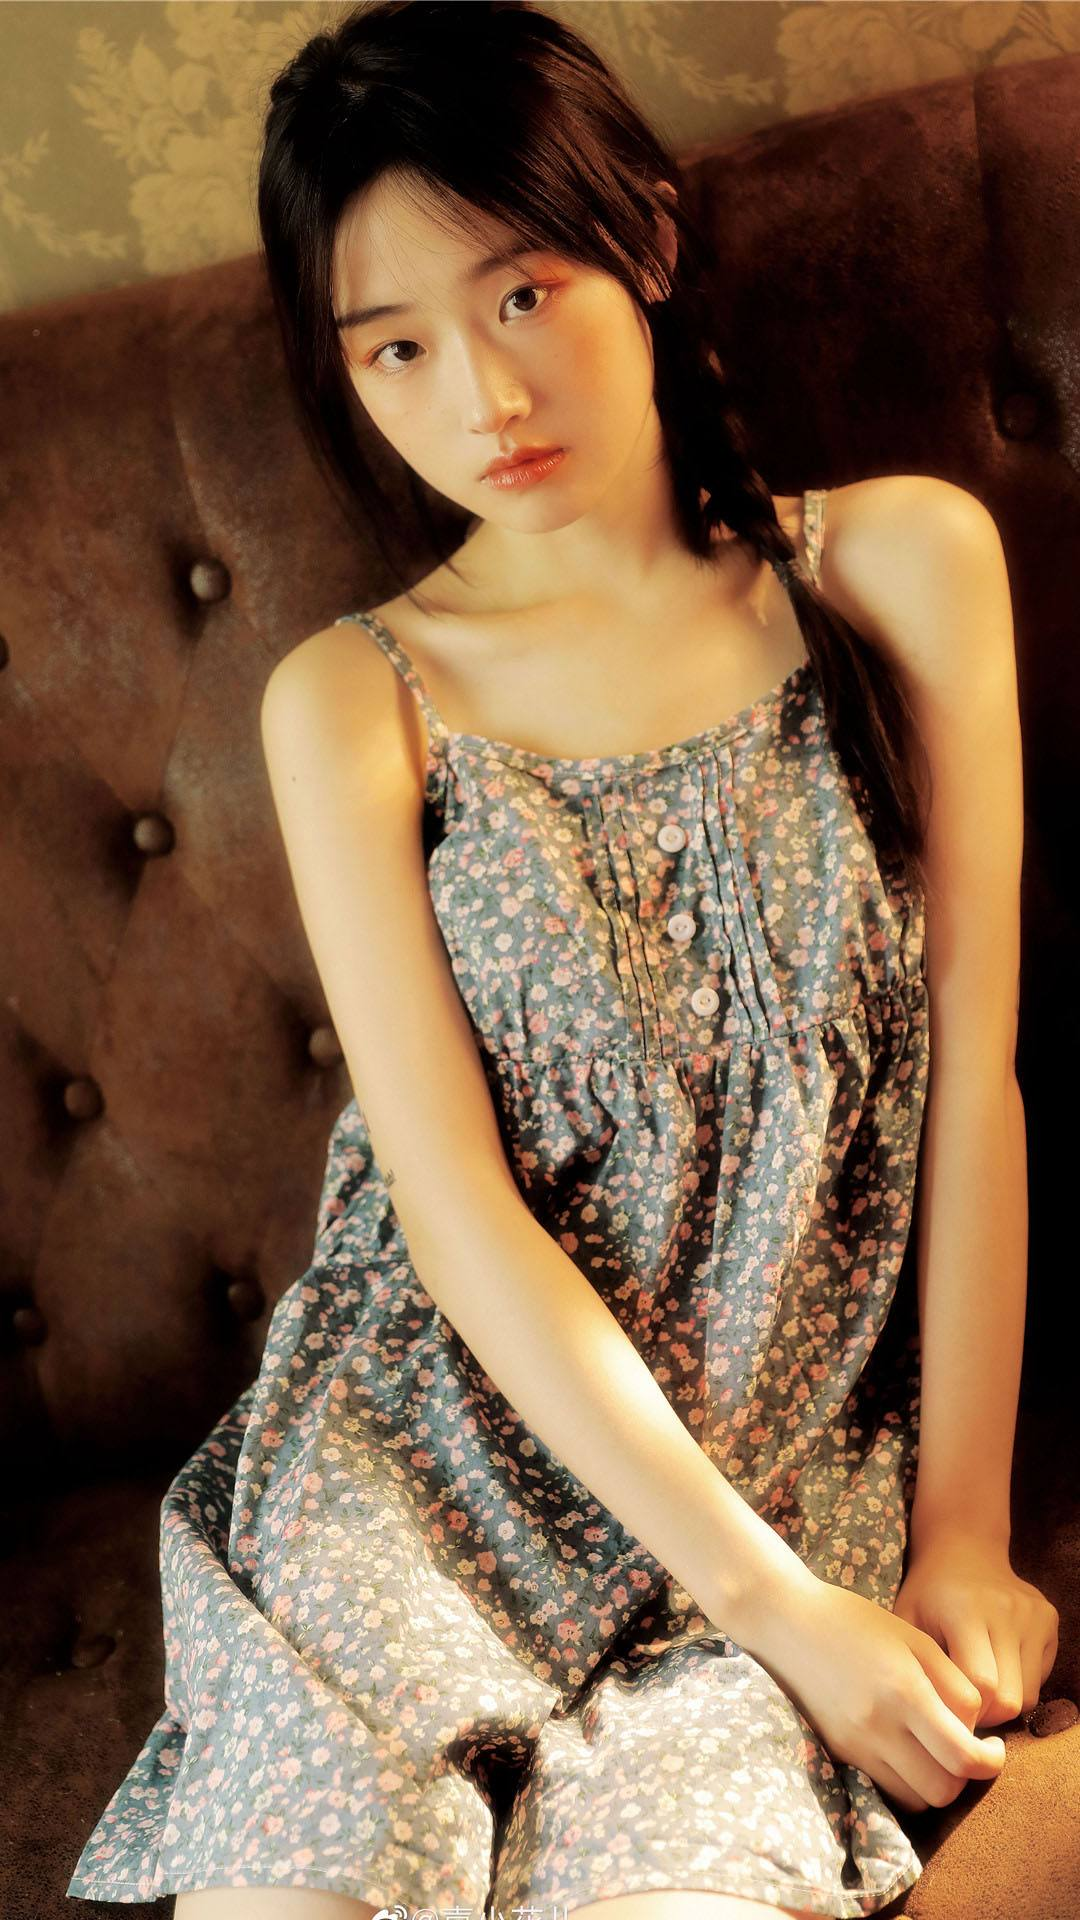person: (265, 61, 1028, 1920)
